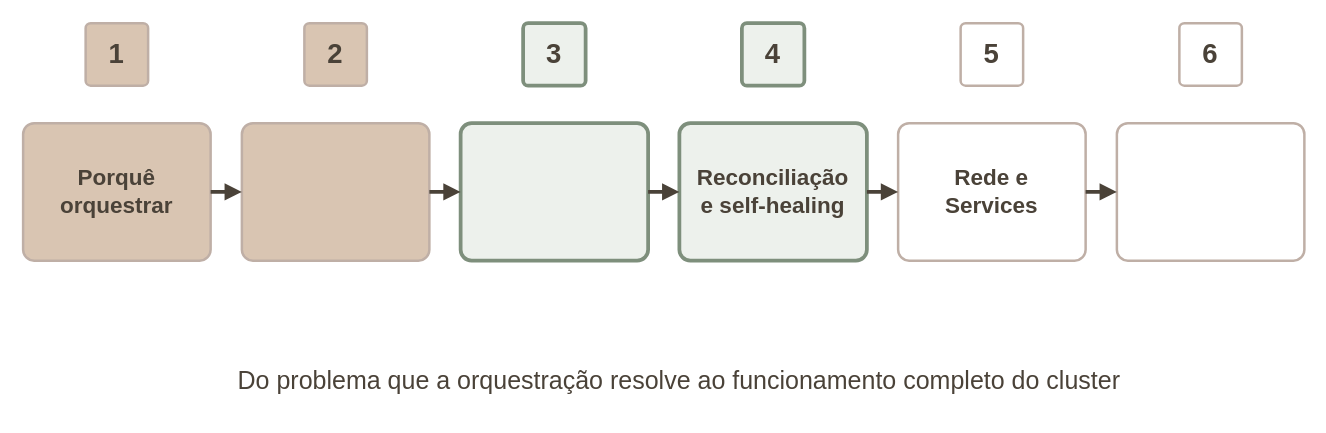
This 1326x433 diagram has some shape labels left out. The centre of each missing label's shape, as x and y in pixels:
Arquitetura do cluster: point (335, 191)
Dados e agendamento: point (1210, 191)
Objetos principais: point (553, 191)
